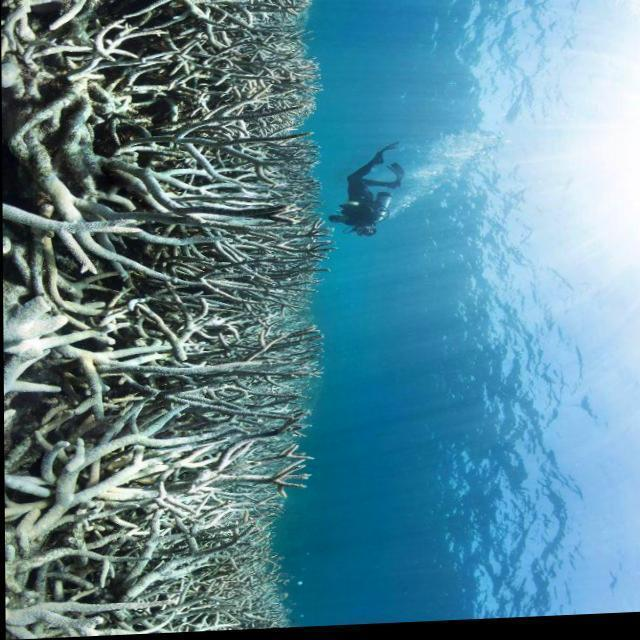Dead Coral: (41, 15, 296, 615)
